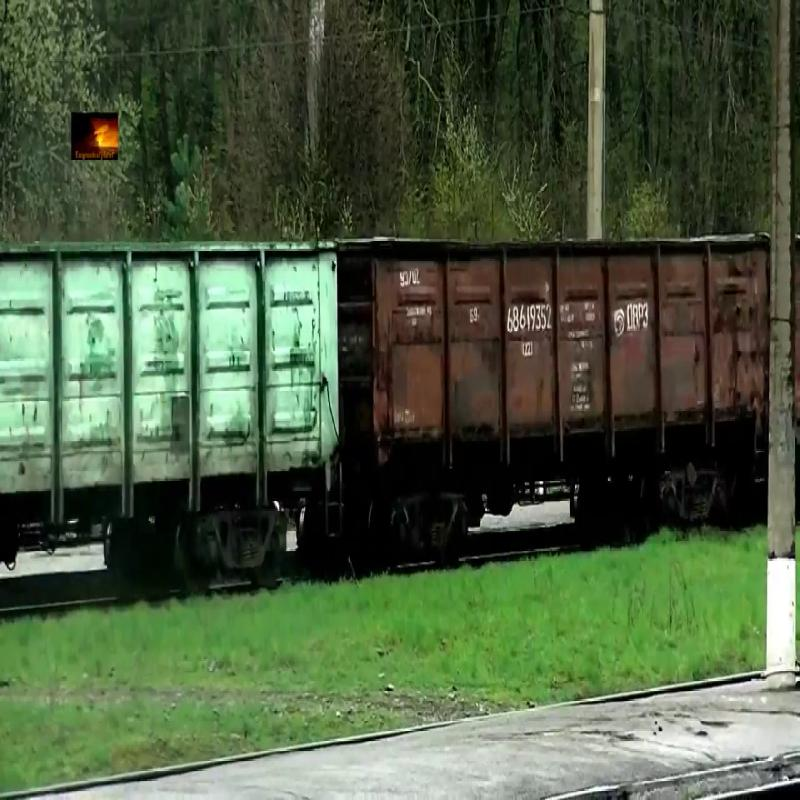train: (341, 235, 770, 476), (1, 239, 339, 528)
